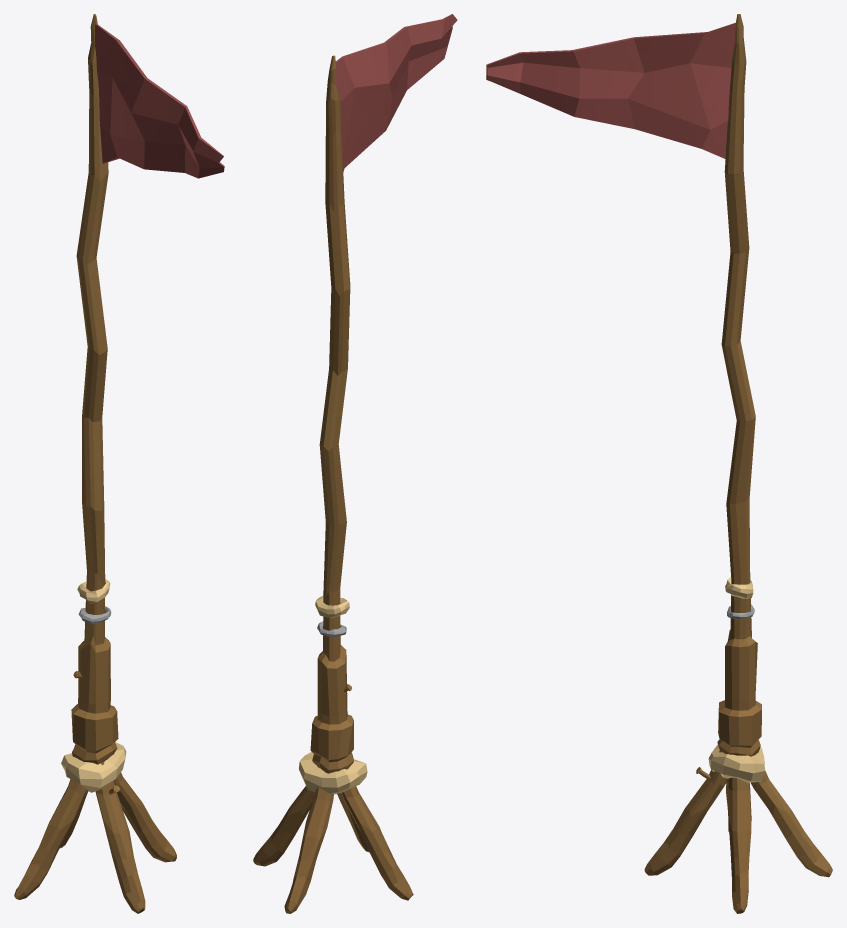
The model's file is flag_on_stick.glb.
3 views of the same model, side by side, from view 1: azimuth 30°, elevation 25°; view 2: azimuth 150°, elevation 25°; view 3: azimuth 270°, elevation 25° (orthographic). The views are drawn at different scales.
Visible parts, largest first — view 1: pole, flag; view 2: pole, flag; view 3: pole, flag.
Boxes of the visible parts, x1,y1,x2,y2 form: pole: (14,14,176,913); flag: (95,24,224,178); pole: (253,55,413,913); flag: (335,14,457,171); pole: (644,14,832,913); flag: (486,22,735,158).
Bounding box in the file's own units: 0.5535 × 2.8 × 1.02.
Materials: 1 (1 with a texture image).
